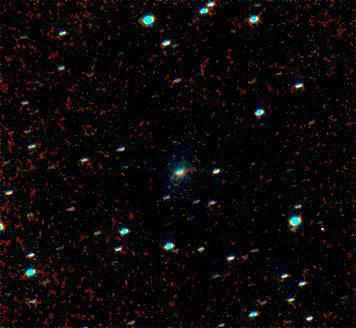star: (306, 215, 336, 245)
